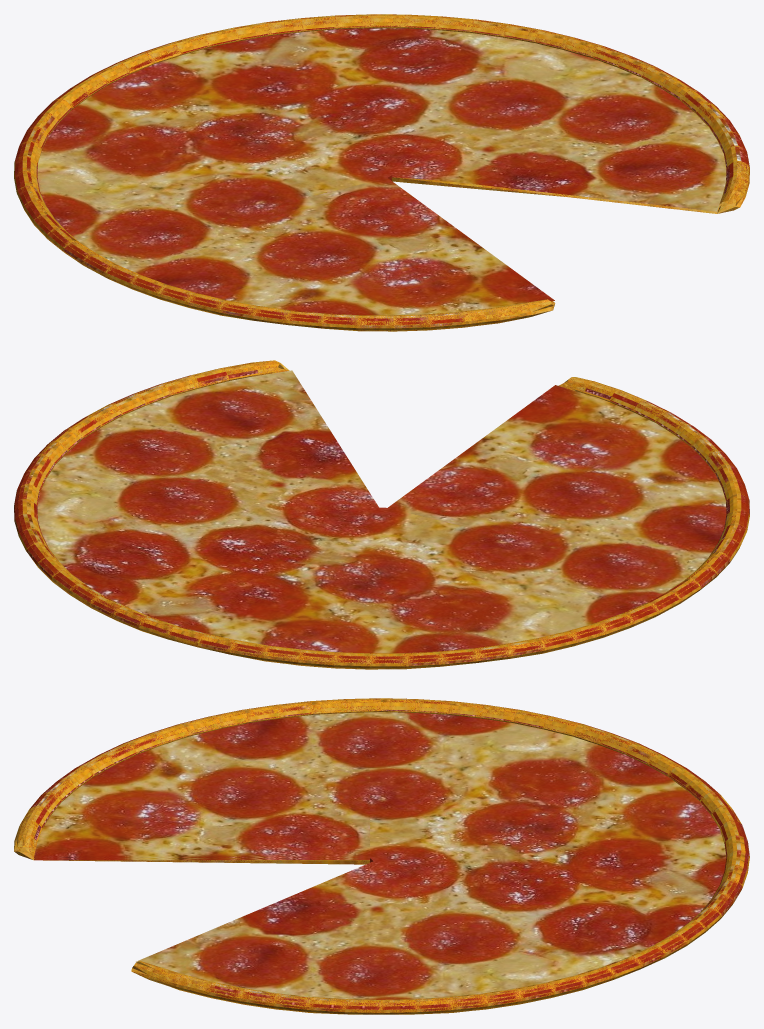
File: otherpizza.dae
3 views of the same model, one above another, from view 1: azimuth 30°, elevation 25°; view 2: azimuth 150°, elevation 25°; view 3: azimuth 270°, elevation 25° (orthographic).
Parts seen in each view (by area): view 1: skp98ED (×2); view 2: skp98ED (×2); view 3: skp98ED (×2).
Boxes of the visible parts, x1,y1,x2,y2 form: skp98ED (×2): (14, 14, 749, 331); skp98ED (×2): (14, 360, 749, 669); skp98ED (×2): (14, 698, 749, 1014).
Bounding box in the file's own units: 16.37 × 16.33 × 0.3598.
Materials: 2 (2 with a texture image).
